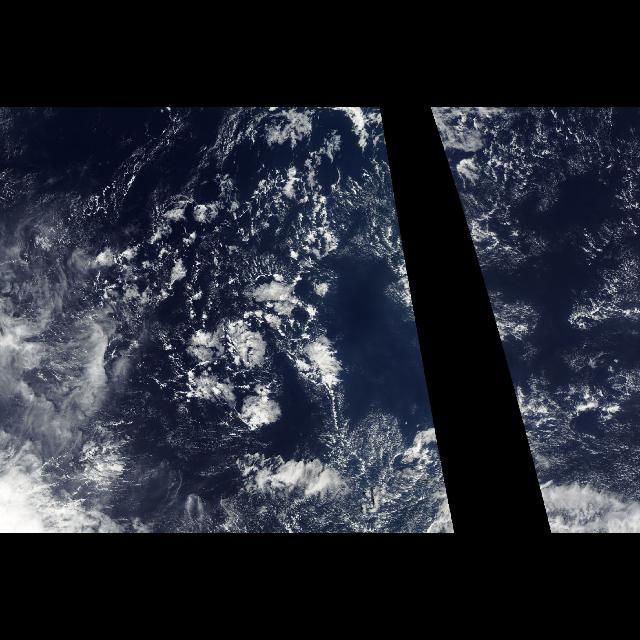Flower: (145, 280, 357, 450)
Gravel: (134, 125, 392, 268)
Sugar: (520, 124, 636, 478)
